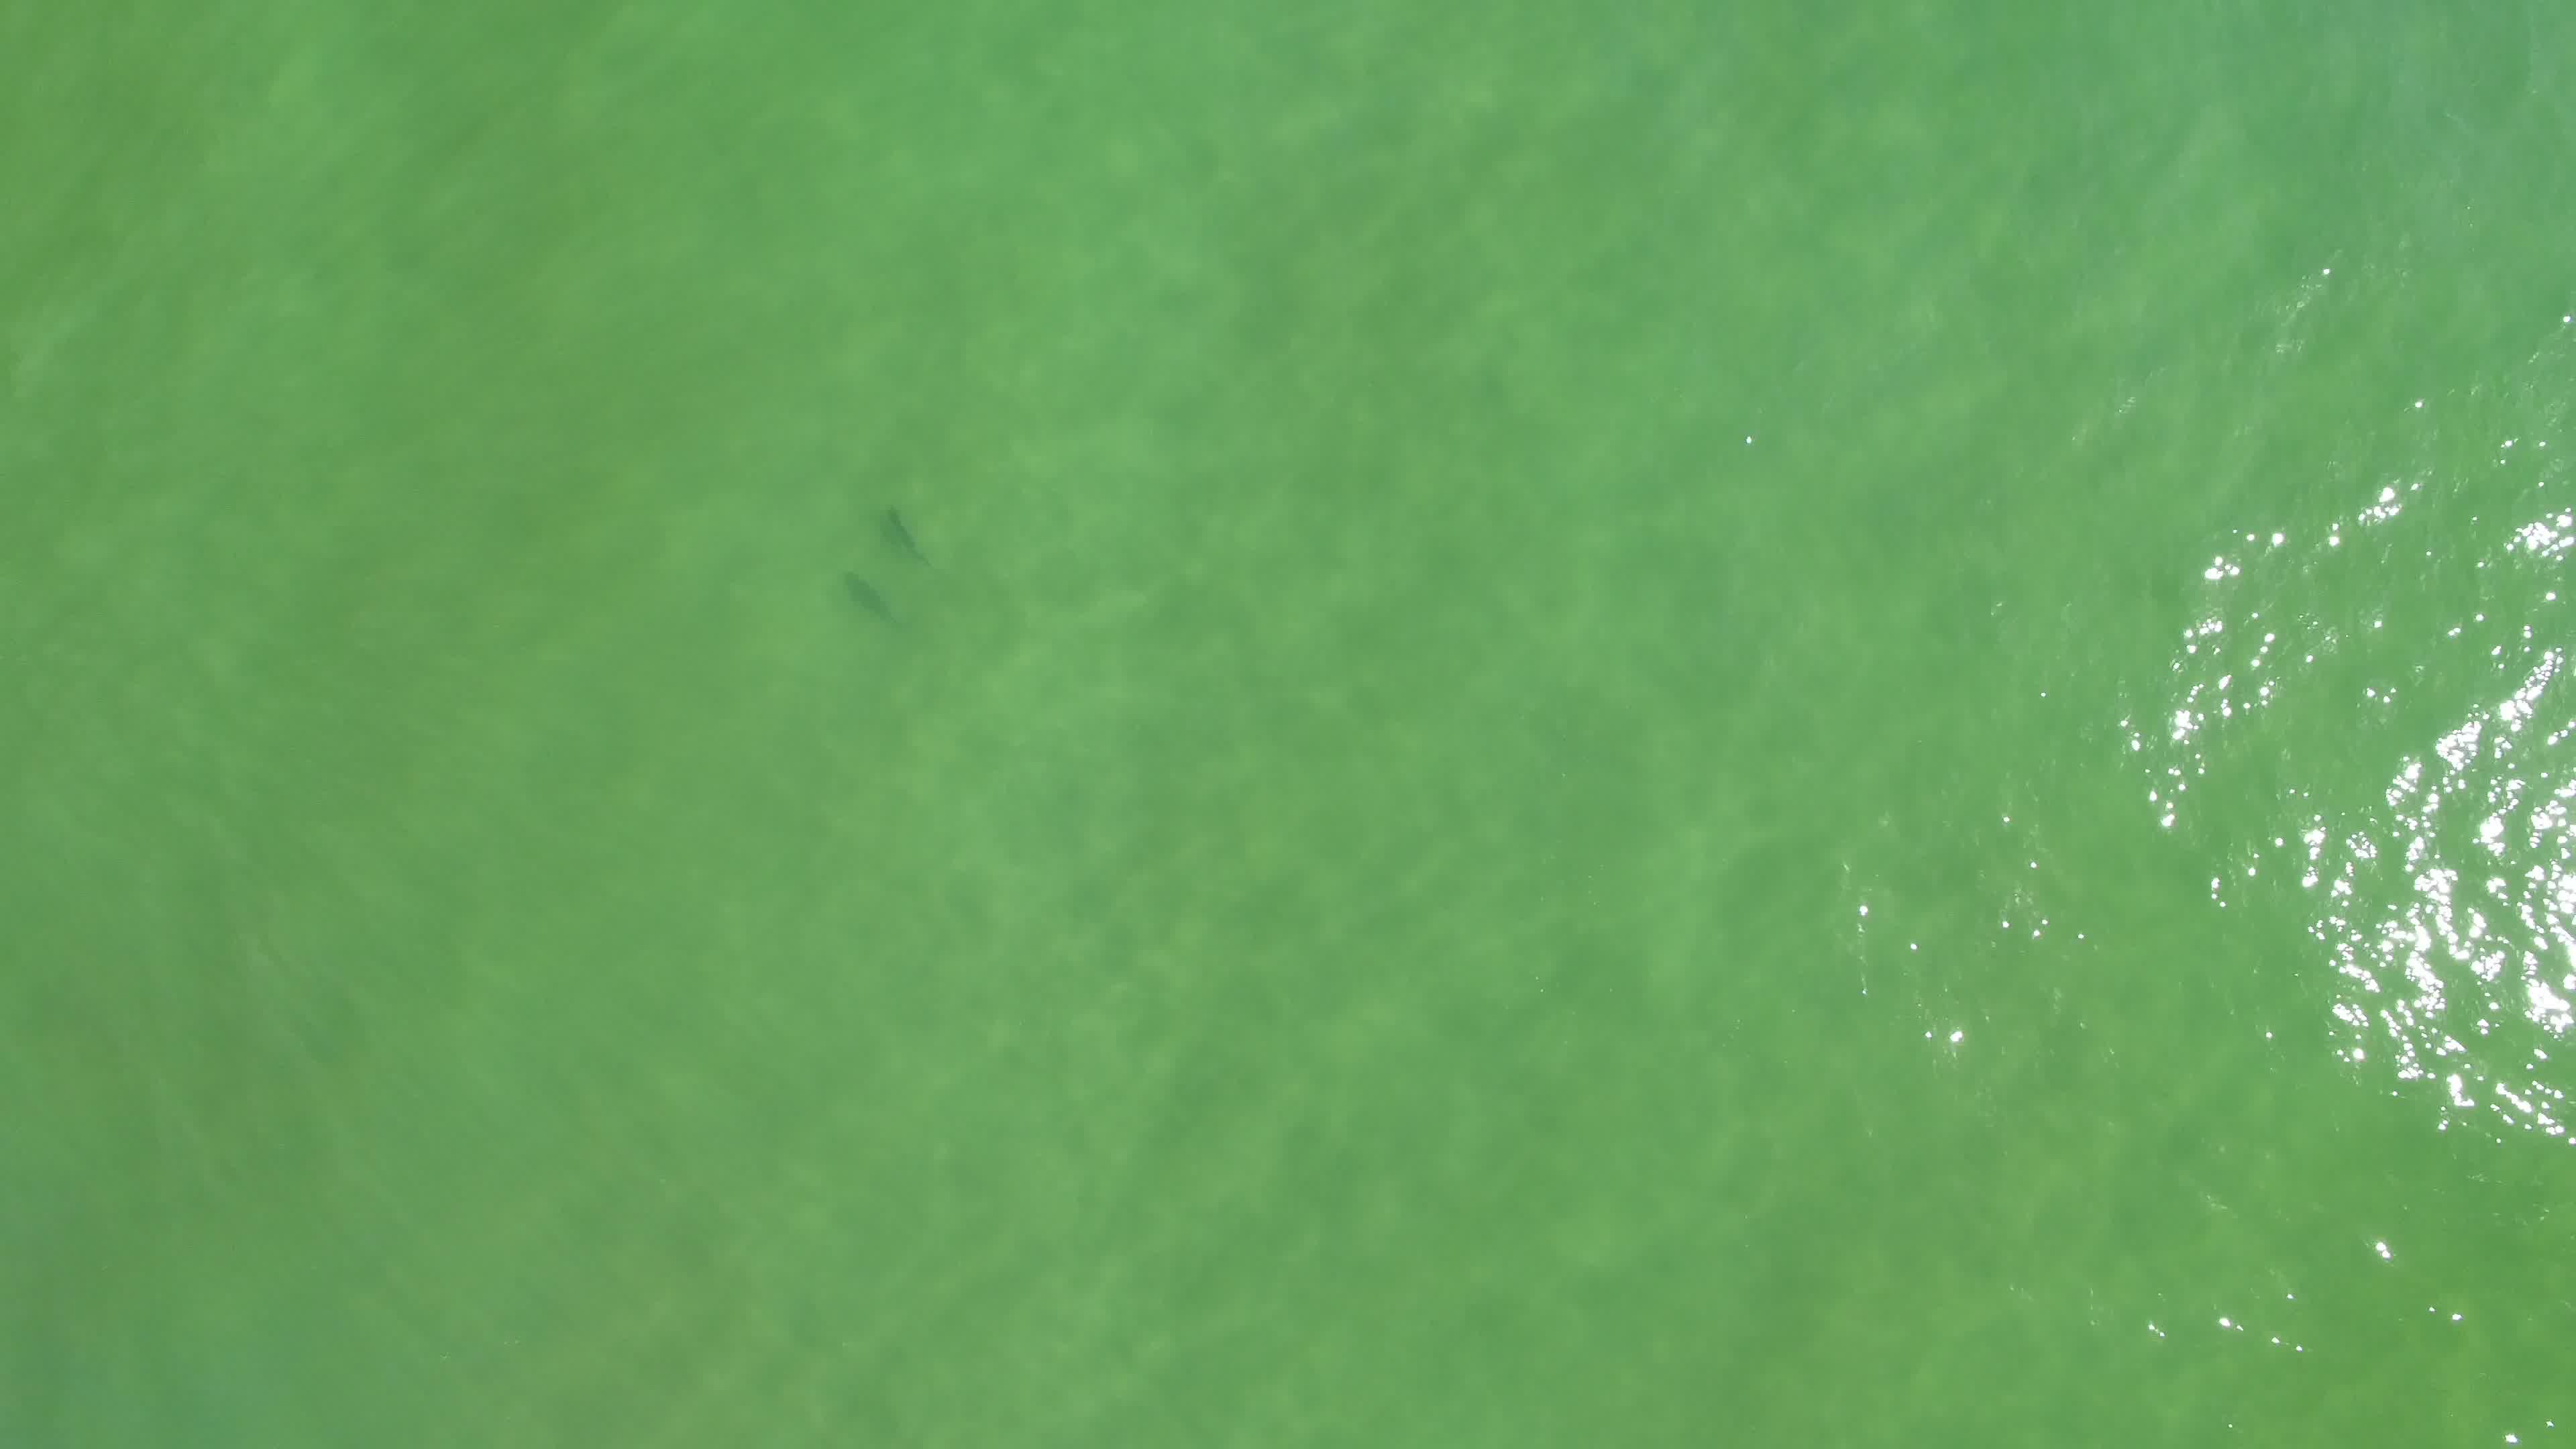shark: (833, 564, 911, 639), (870, 499, 938, 570)
